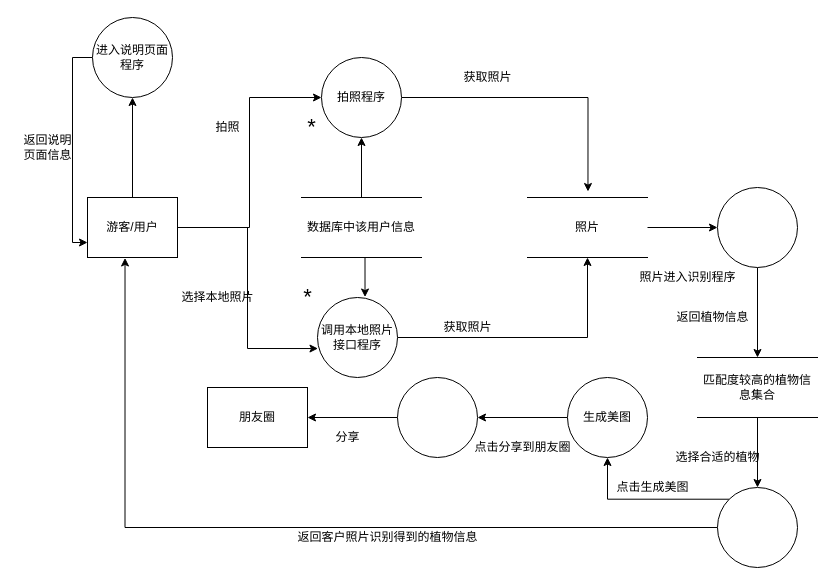
The diagram is 835 pixels wide and 585 high, and some of its shapes have lost their labels. Each missing label, with the centre of its shape:
"分享到朋友圈" belongs at point 437,417.
"匹配诗词程序" belongs at point 757,527.
"识别照片程序" belongs at point 757,227.
